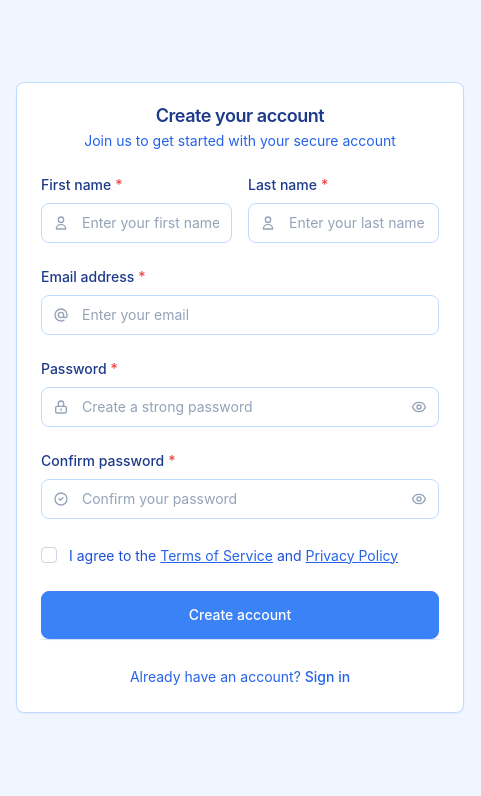
Test: SignupForm › Form Validation › should show error for invalid email
This screenshot has width=481, height=796.
Type "invalid-email" into the field labelled "Email address*" at (240, 314), box [41, 294, 439, 334]
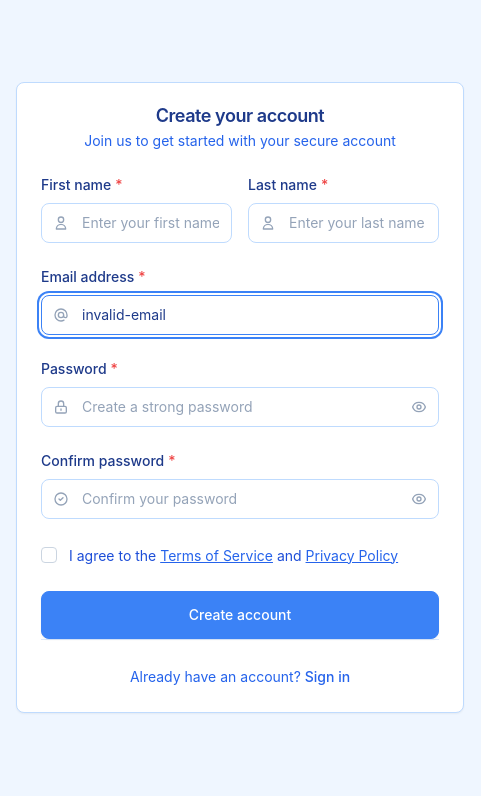
Submit the form, box [41, 174, 439, 638]
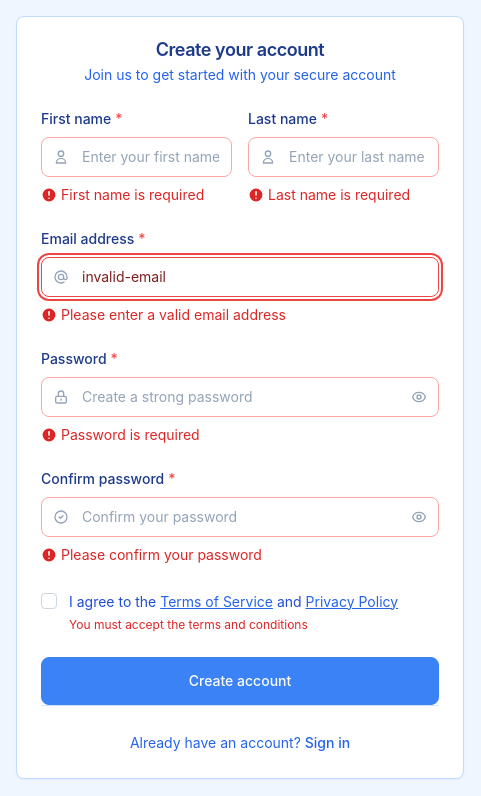
Check: the text "Please enter a valid email address" is shown, box [61, 304, 286, 324]
